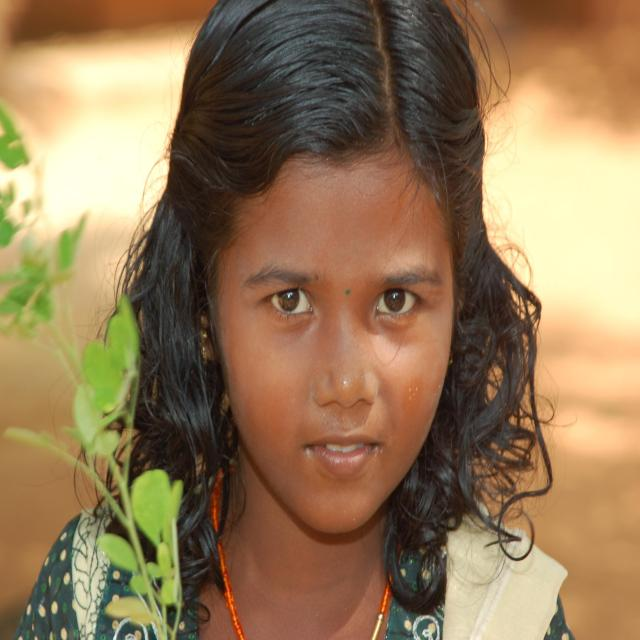no-glass: (265, 281, 428, 327)
